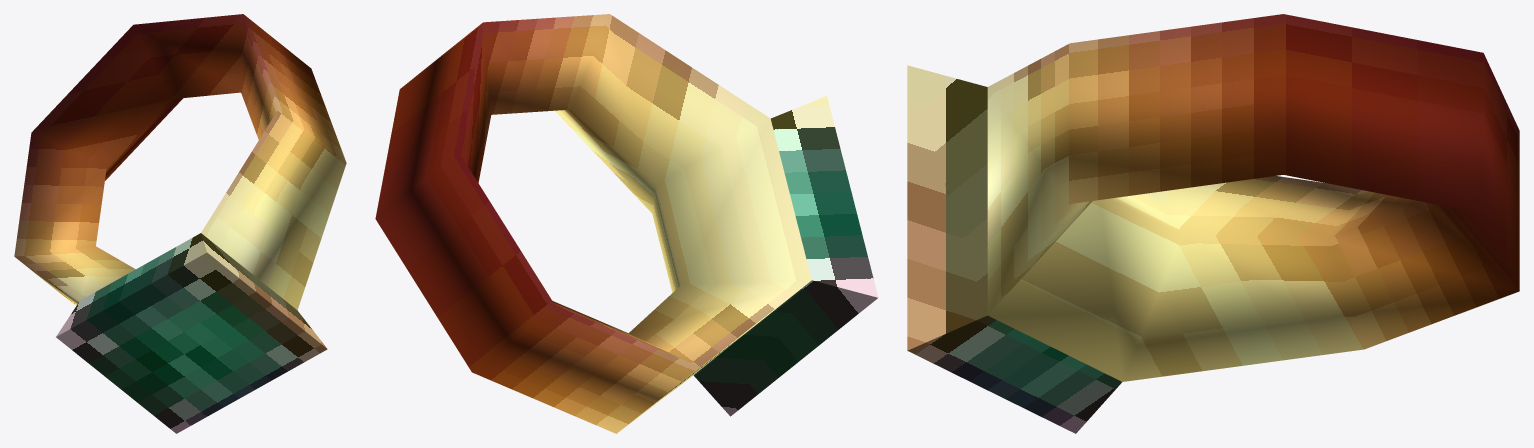
Rendered from Ring02.glb.
3 views of the same model, side by side, from view 1: azimuth 30°, elevation 25°; view 2: azimuth 150°, elevation 25°; view 3: azimuth 270°, elevation 25° (orthographic). The views are drawn at different scales.
Visible parts, largest first — view 1: model_Ring02; view 2: model_Ring02; view 3: model_Ring02.
Part boxes in pixels (x1,y1,x2,y2): model_Ring02: (14, 14, 346, 433); model_Ring02: (375, 14, 878, 433); model_Ring02: (907, 14, 1519, 433).
Size of the model in its own units: 0.1995 by 0.1995 by 0.2124.
Materials: 1 (1 with a texture image).
